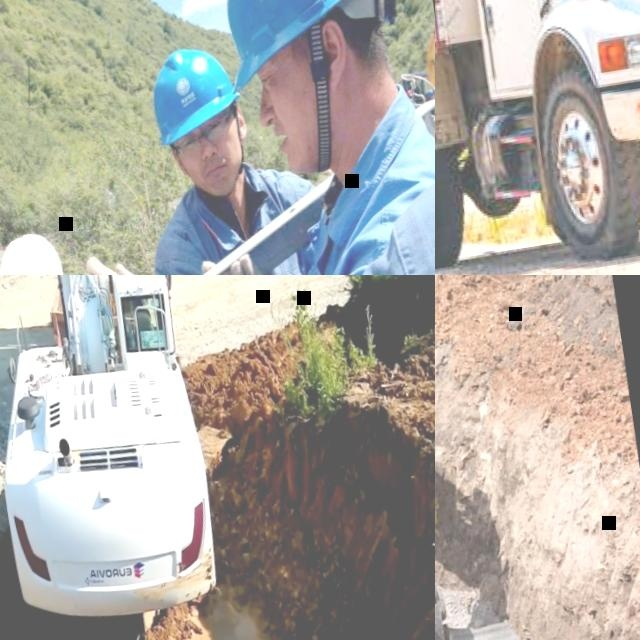Hardhat: (210, 0, 408, 92), (146, 39, 249, 147)
NO-Mask: (261, 84, 336, 183), (188, 148, 247, 200)
NO-Safety Vest: (274, 107, 435, 275), (153, 166, 346, 275)
Person: (25, 0, 435, 275), (117, 28, 390, 275), (196, 163, 435, 275)
machinery: (0, 275, 234, 629), (435, 0, 640, 275), (435, 275, 544, 640)
